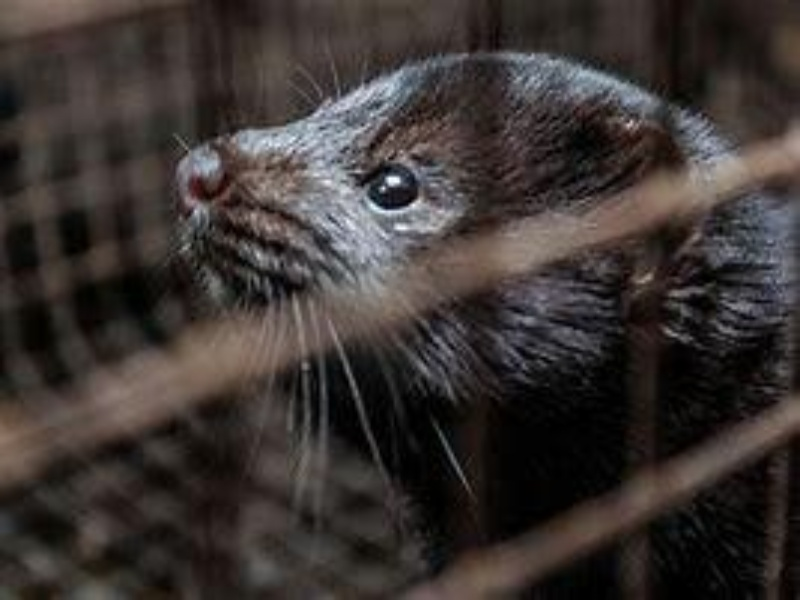minkish: (167, 49, 791, 594)
